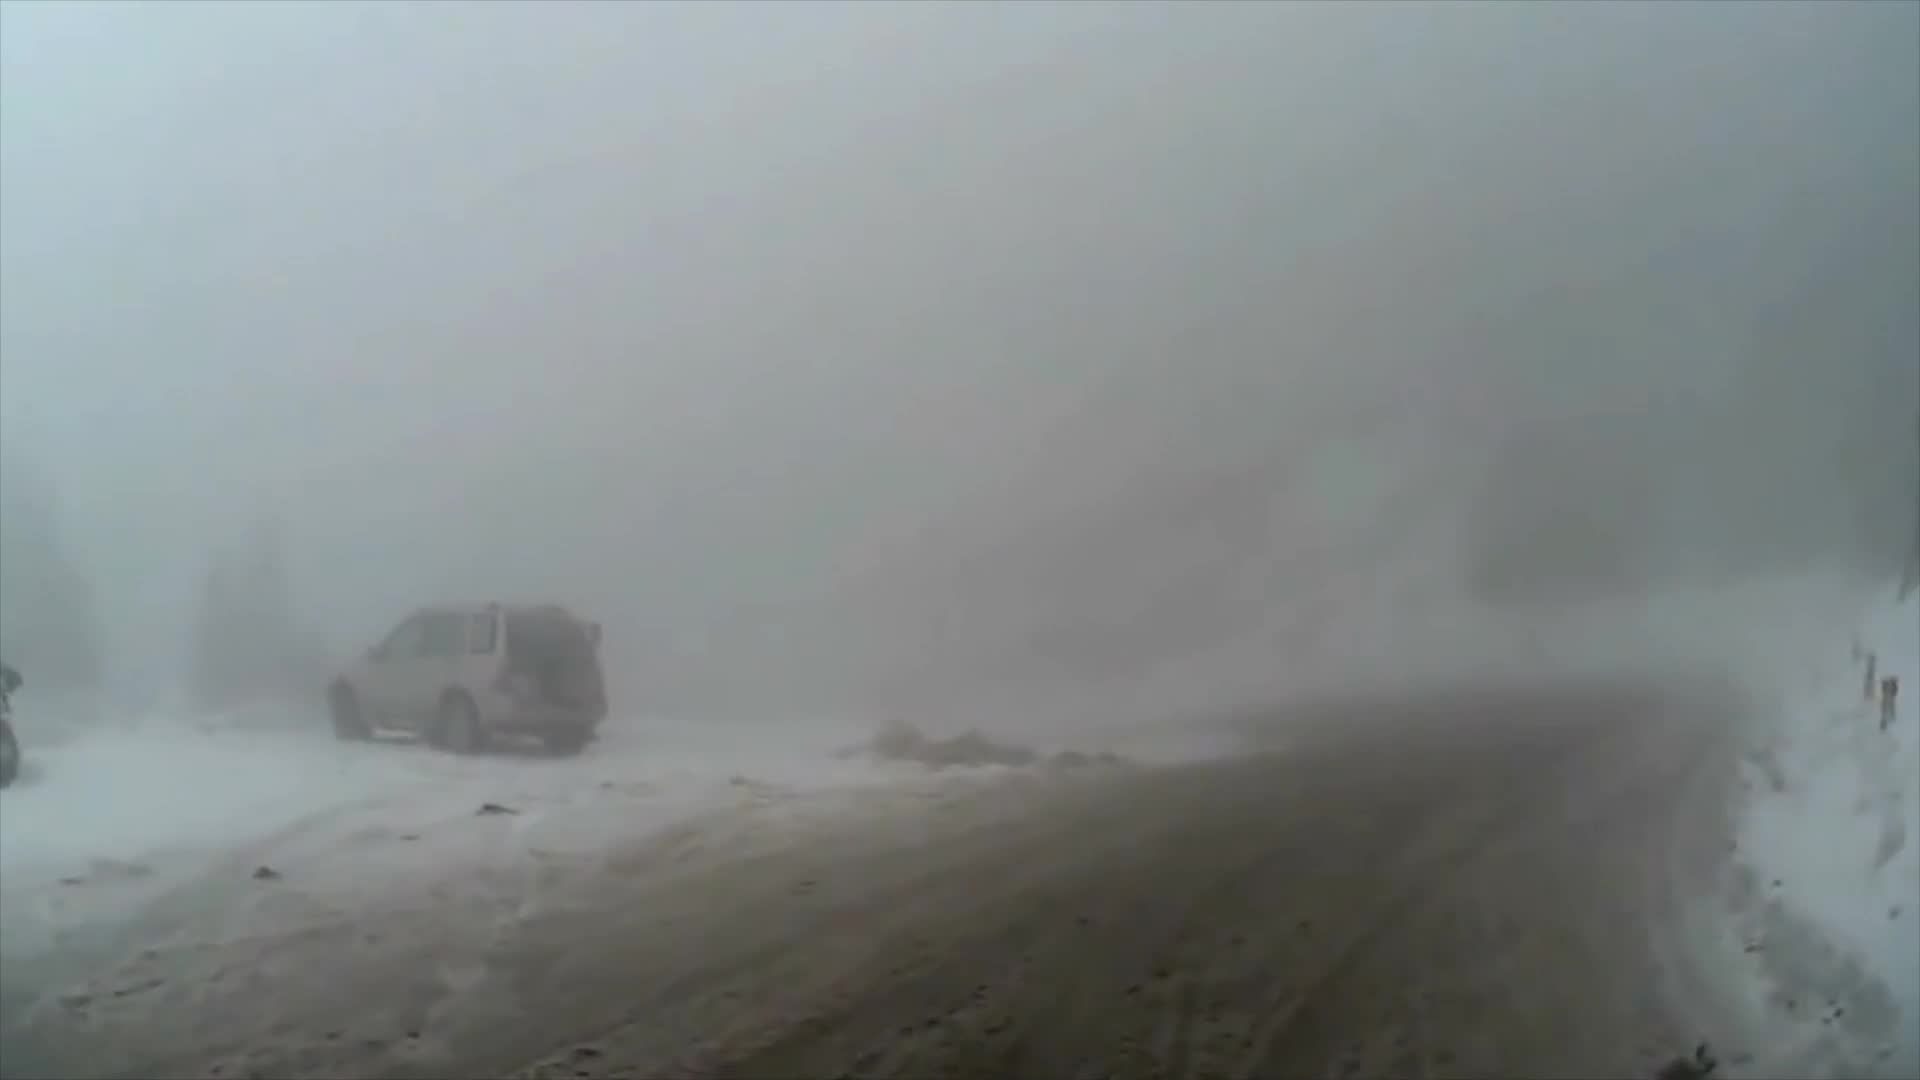vehicle: (318, 595, 603, 765)
